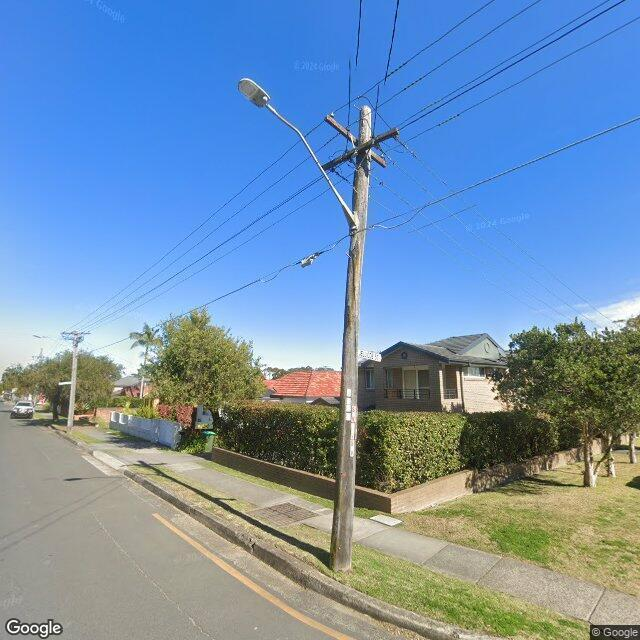crossarm: (323, 114, 387, 168), (322, 128, 399, 172), (60, 332, 91, 335)
streetlight: (238, 77, 362, 229)
timber-pole: (330, 107, 372, 572), (68, 331, 78, 430)
